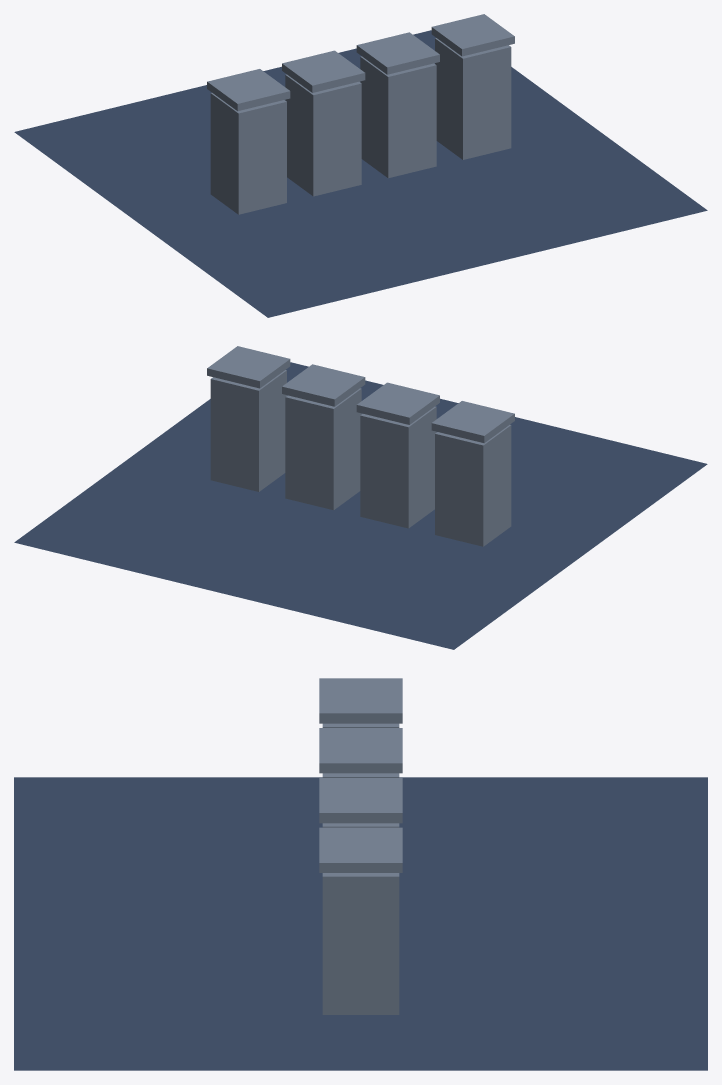
The model's file is waste-station.glb.
3 renders of one model, top to bottom at view 1: azimuth 30°, elevation 25°; view 2: azimuth 150°, elevation 25°; view 3: azimuth 270°, elevation 25°, orthographic. The views are drawn at different scales.
Parts seen in each view (by area): view 1: Pad, Bin_0, Bin_3, Bin_2, Bin_1, Lid_2, Lid_0, Lid_1, Lid_3; view 2: Pad, Bin_0, Bin_3, Bin_2, Bin_1, Lid_2, Lid_0, Lid_1, Lid_3; view 3: Pad, Bin_3, Lid_0, Lid_1, Lid_2, Lid_3.
Boxes of the visible parts, box(x1,y1,x2,y2) form: Pad: box(14, 30, 707, 317); Bin_0: box(210, 93, 286, 214); Bin_3: box(435, 38, 511, 159); Bin_2: box(360, 56, 436, 178); Bin_1: box(285, 74, 361, 196); Lid_2: box(356, 32, 439, 74); Lid_0: box(207, 69, 290, 111); Lid_1: box(282, 50, 365, 92); Lid_3: box(431, 14, 514, 56); Pad: box(14, 362, 707, 649); Bin_0: box(435, 425, 511, 546); Bin_3: box(210, 370, 286, 491); Bin_2: box(285, 388, 361, 510); Bin_1: box(360, 406, 436, 528); Lid_2: box(282, 364, 365, 406); Lid_0: box(431, 401, 514, 443); Lid_1: box(356, 382, 439, 424); Lid_3: box(207, 346, 290, 388); Pad: box(14, 777, 707, 1070); Bin_3: box(322, 873, 399, 1014); Lid_0: box(319, 678, 402, 723); Lid_1: box(319, 728, 402, 773); Lid_2: box(319, 778, 402, 823); Lid_3: box(319, 827, 402, 872).
Size of the model in its own units: 5 by 1.22 by 5.
